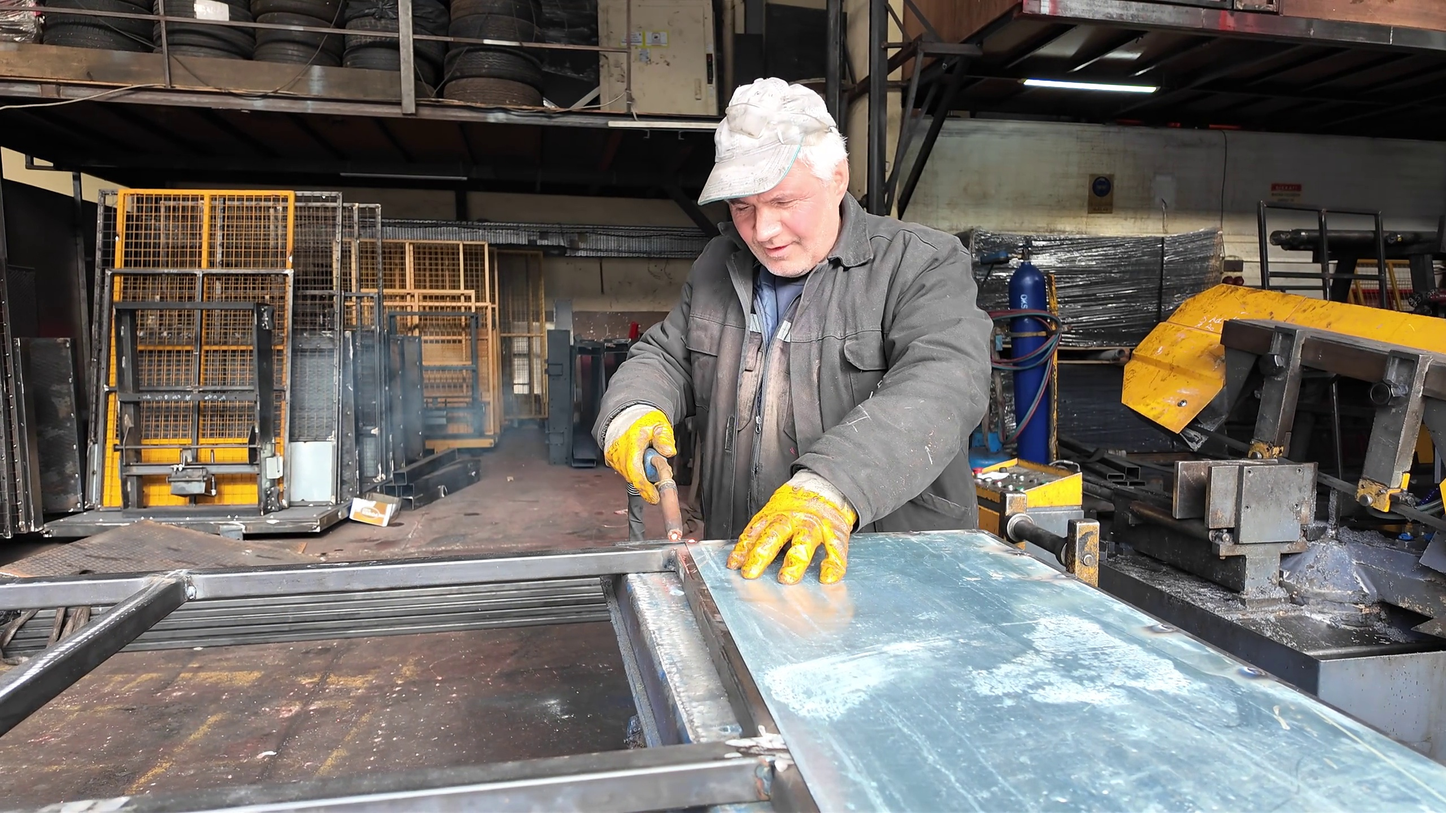person: (589, 76, 998, 588)
